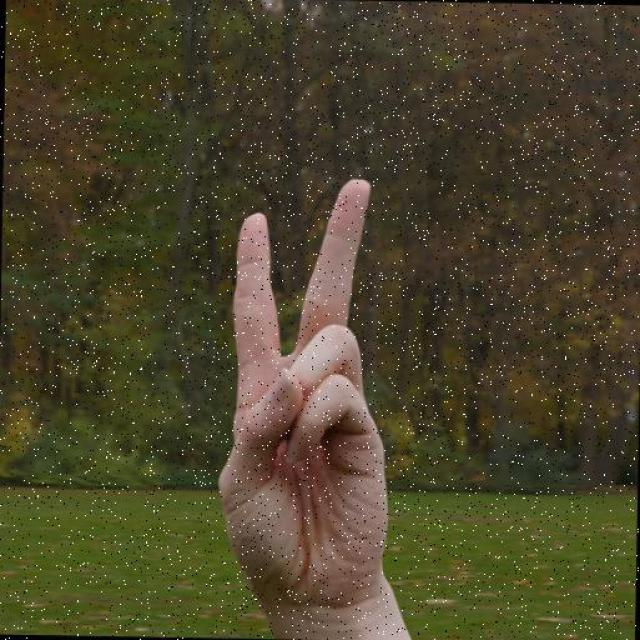V: (203, 167, 391, 640)
